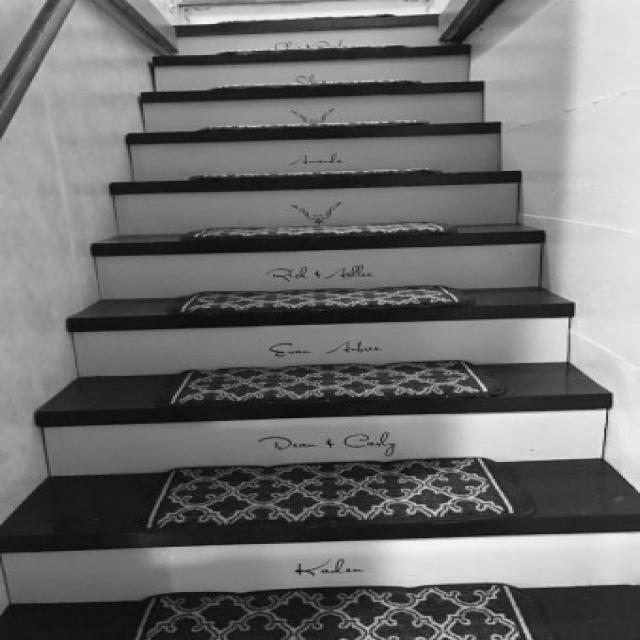stair: (0, 45, 640, 605)
